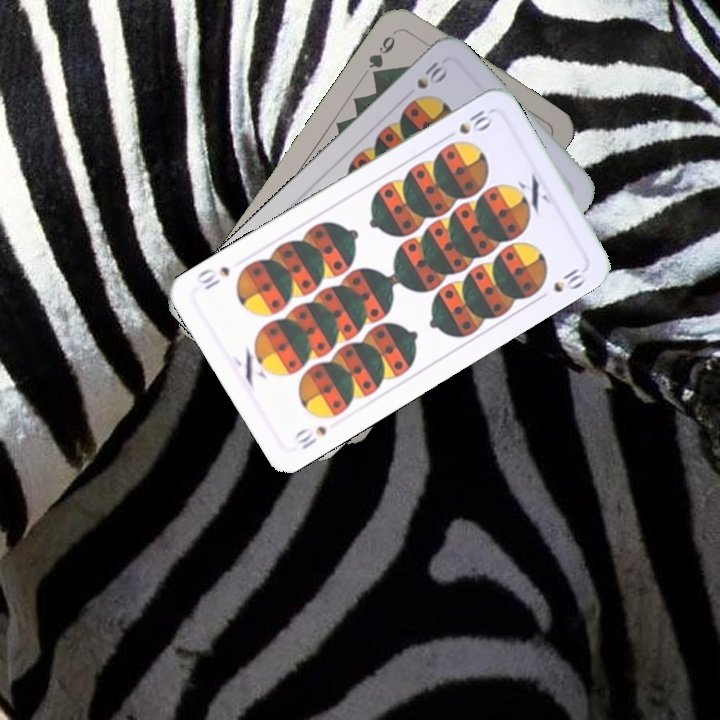G9: (364, 25, 401, 82)
S10: (440, 106, 495, 143), (412, 56, 451, 92), (290, 421, 330, 453)
